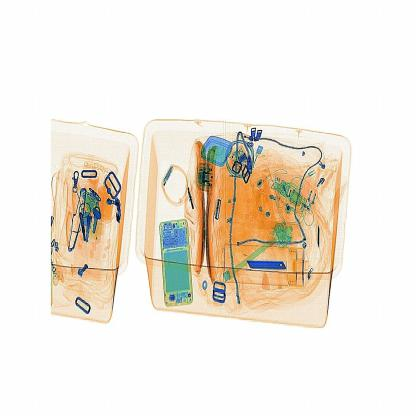pliers: (244, 254, 290, 280)
